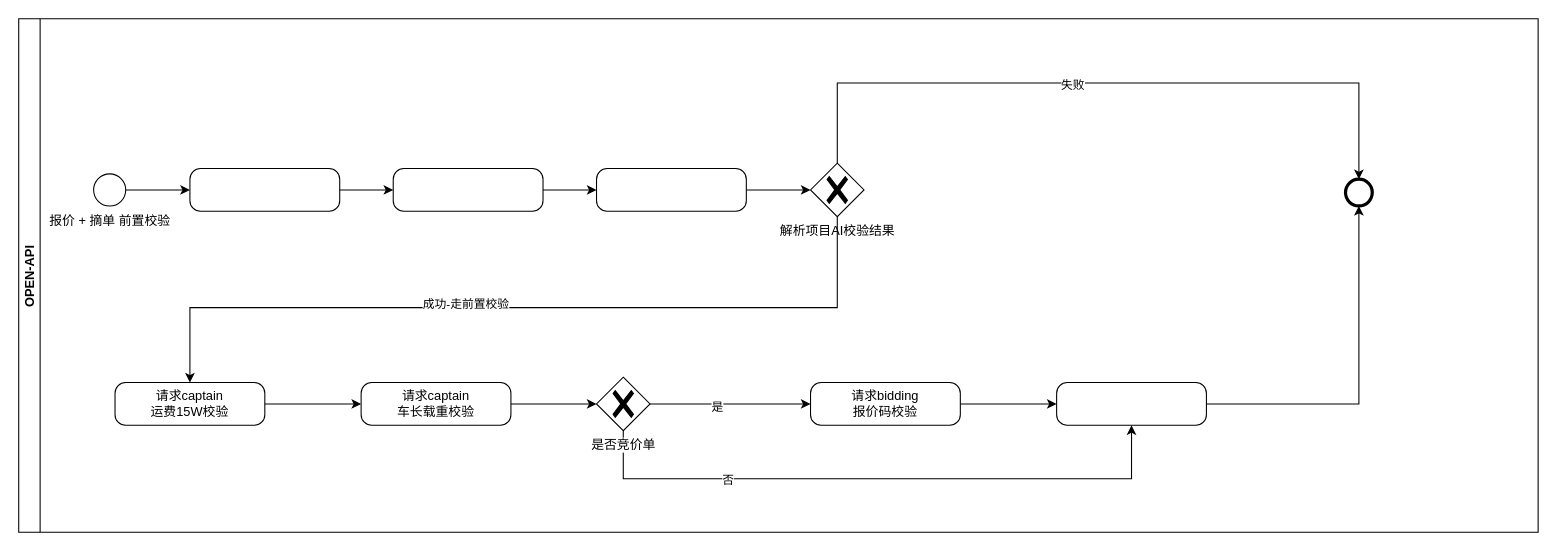
Image size: 1557x551. Some labels were removed from this diagram. The shapes that lost their labels are listed below. From the top down, each one's centre as x and y in pixels, then its label:
pixel 264 189: 参数类型校验
pixel 467 189: 查询关联表 确定订单类型
pixel 670 189: 请求captain 项目AI校验
pixel 1131 403: 组装前置校验结果
